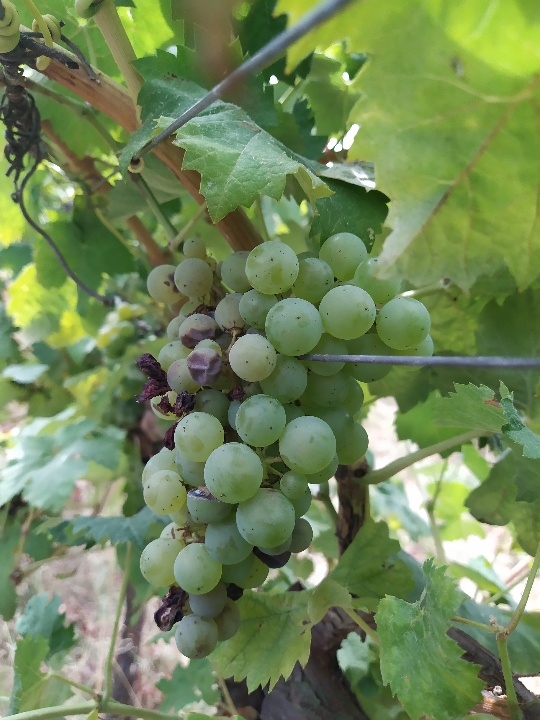grape: (131, 229, 438, 662)
